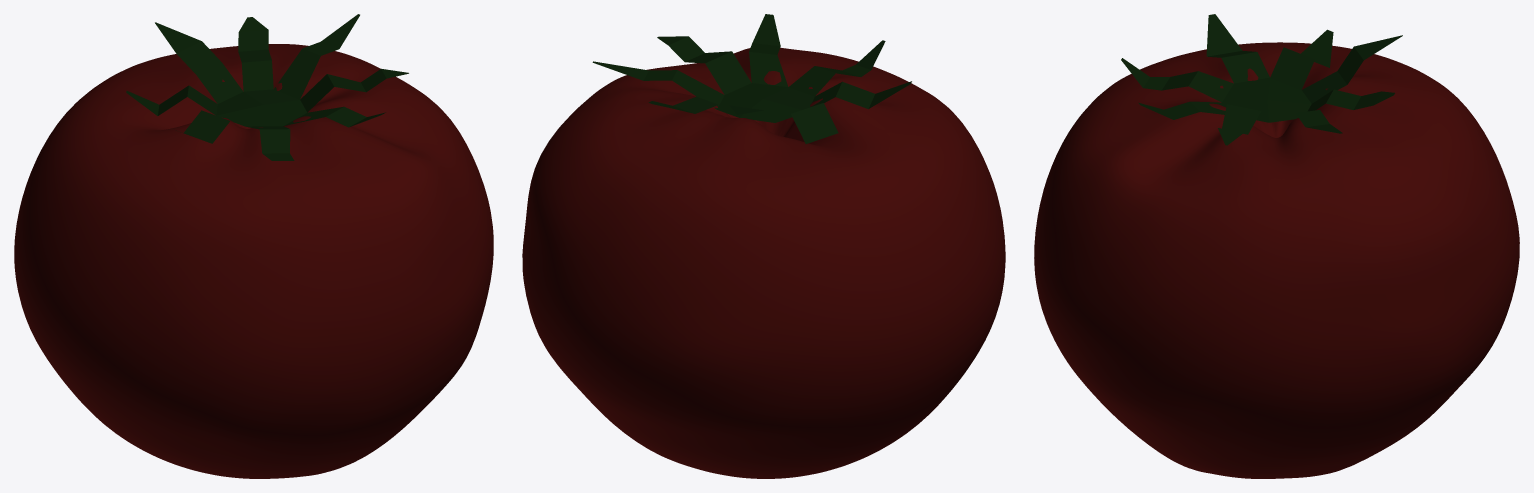
Rendered from Tomato.fbx.
3 views of the same model, side by side, from view 1: azimuth 30°, elevation 25°; view 2: azimuth 150°, elevation 25°; view 3: azimuth 270°, elevation 25° (orthographic).
Parts seen in each view (by area): view 1: Сфера, Плоскость; view 2: Сфера, Плоскость; view 3: Сфера, Плоскость.
Boxes of the visible parts, x1=… form: Сфера: x1=14, y1=44, x2=493, y2=478; Плоскость: x1=126, y1=14, x2=408, y2=160; Сфера: x1=522, y1=47, x2=1005, y2=478; Плоскость: x1=592, y1=14, x2=911, y2=143; Сфера: x1=1034, y1=42, x2=1519, y2=478; Плоскость: x1=1121, y1=14, x2=1402, y2=145.
Size of the model in its own units: 270 by 271 by 248.
